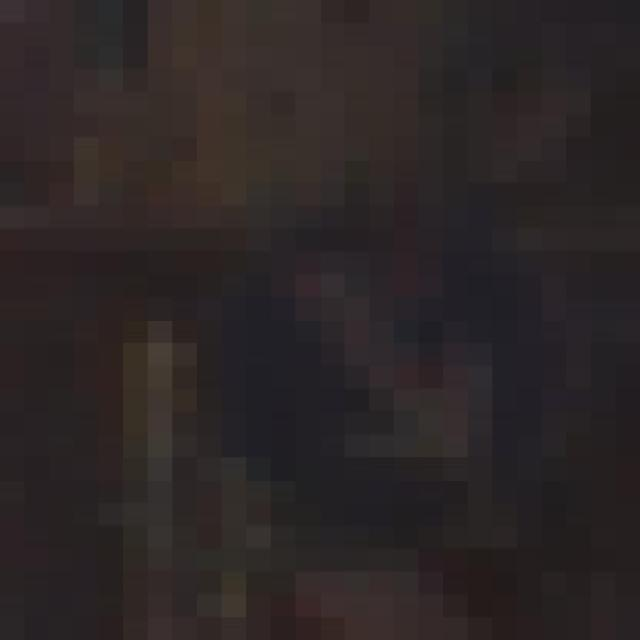Keep-Right: (172, 114, 591, 572)
